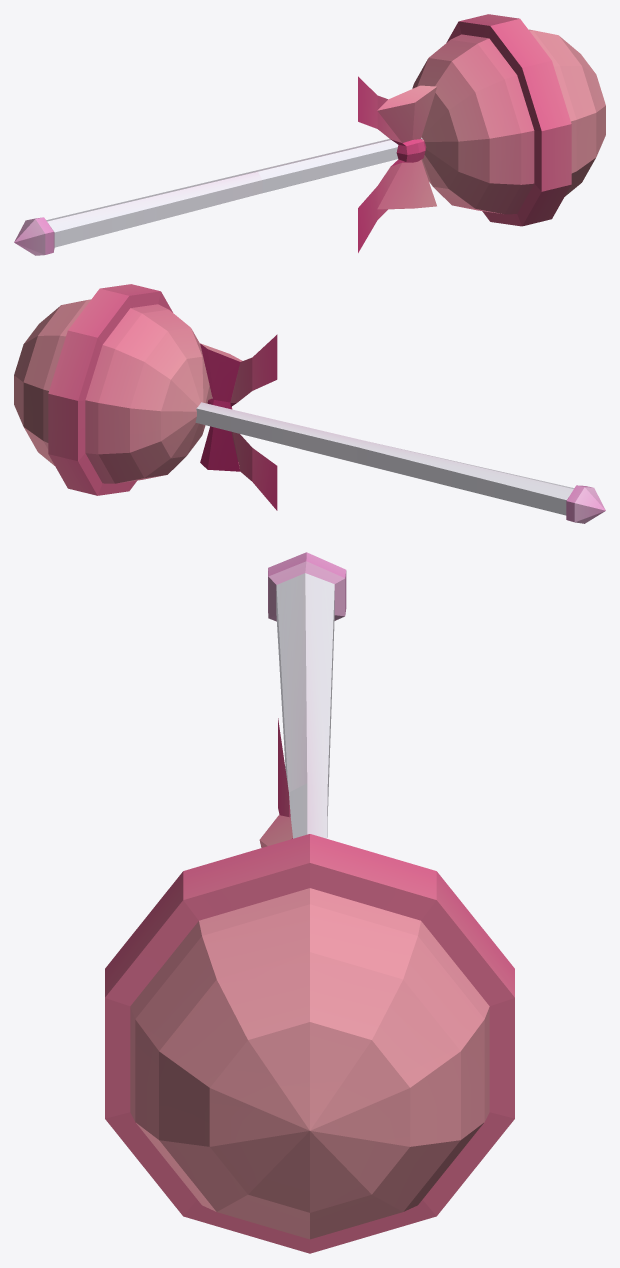
Rendered from weapon_40.FBX.
3 renders of one model, top to bottom at view 1: azimuth 30°, elevation 25°; view 2: azimuth 150°, elevation 25°; view 3: azimuth 270°, elevation 25°, orthographic. The views are drawn at different scales.
Parts seen in each view (by area): view 1: weapon_40; view 2: weapon_40; view 3: weapon_40.
Part boxes in pixels (bbox=[...]): weapon_40: bbox=[14, 14, 605, 255]; weapon_40: bbox=[14, 284, 605, 523]; weapon_40: bbox=[105, 552, 514, 1253].
Size of the model in its own units: 86.86 by 27.98 by 26.61.
1 material, 1 textured.
